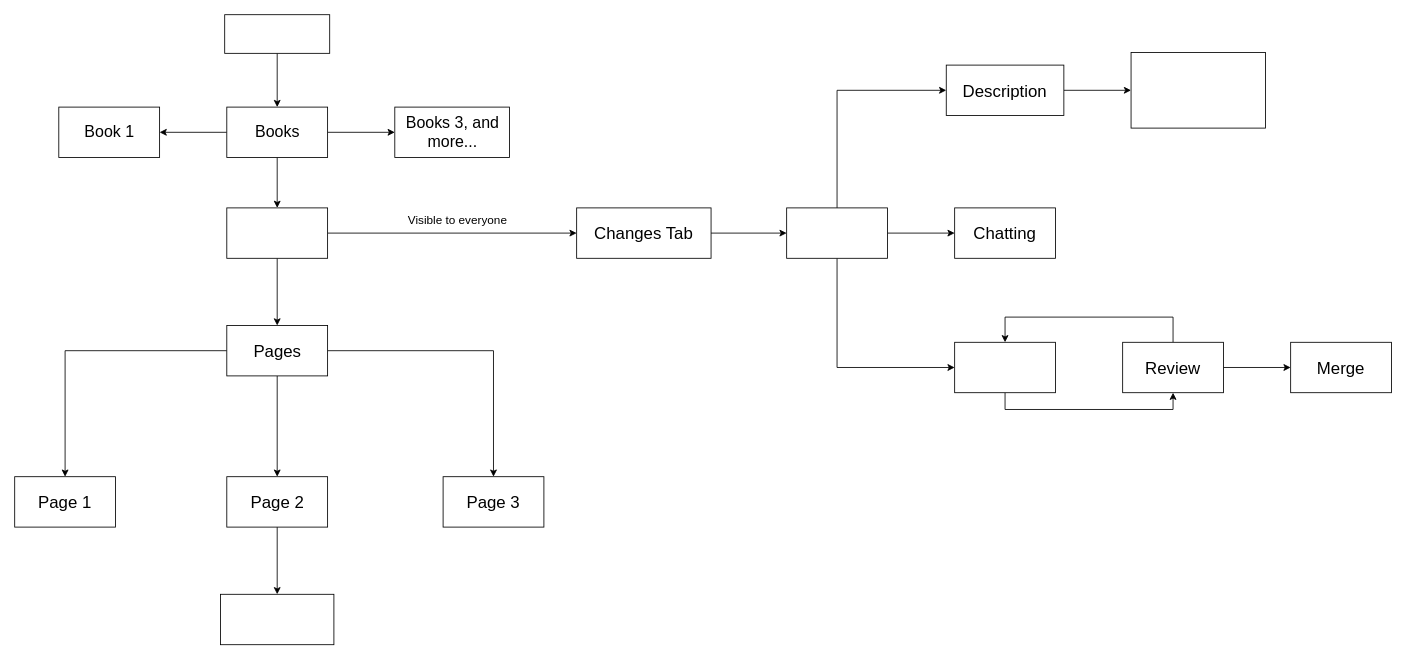
The diagram is 1406 pixels wide and 659 high, and some of its shapes have lost their labels. The shapes that lost their labels are listed below. From the top down, each one's box as (x1, y1, x2, y2) in pixels, then its label:
(224, 14, 330, 53): GittPad
(1130, 52, 1265, 128): Details like: 1. Page 2. New Content
(226, 207, 328, 258): Book 2
(786, 207, 887, 258): Change Page
(954, 341, 1055, 393): Pushing Changes
(220, 593, 334, 645): .md Data
